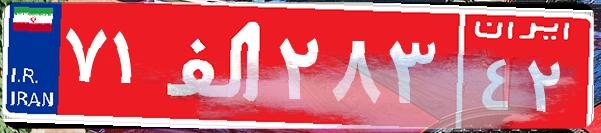1: (110, 28, 158, 105)
2: (273, 28, 330, 110), (525, 38, 570, 115)
3: (385, 28, 445, 110)
4: (475, 38, 525, 113)
7: (57, 26, 110, 107)
8: (330, 28, 385, 110)
الف: (158, 15, 273, 115)
